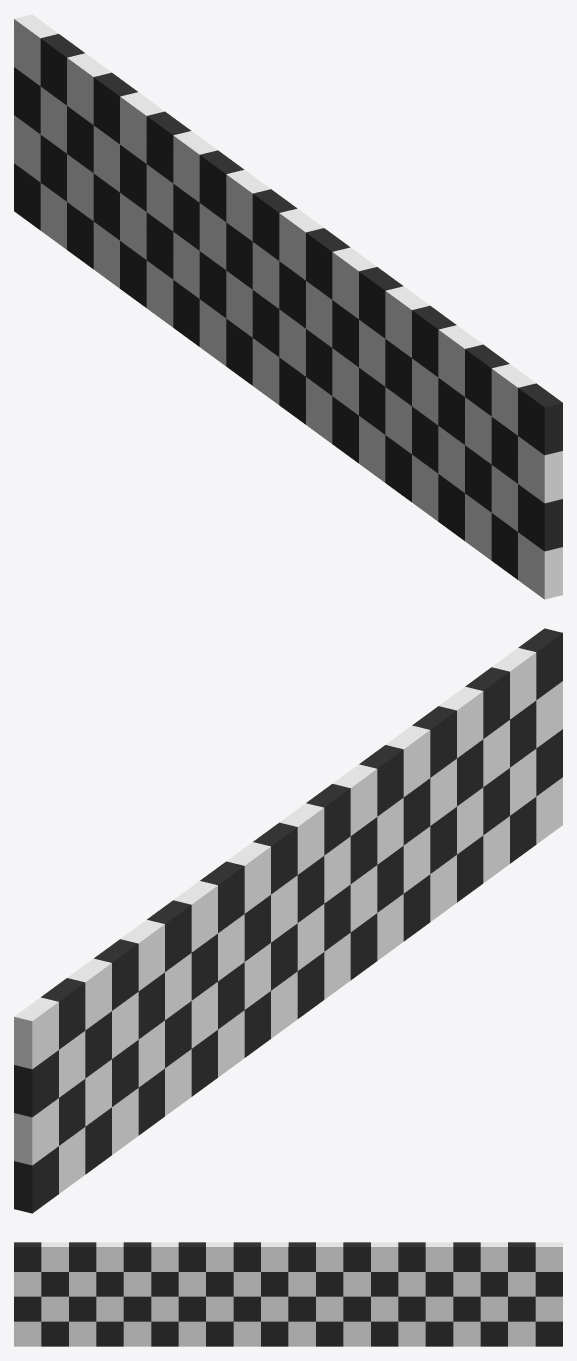
File: startLine.fbx
3 views of the same model, one above another, from view 1: azimuth 30°, elevation 25°; view 2: azimuth 150°, elevation 25°; view 3: azimuth 270°, elevation 25° (orthographic). The views are drawn at different scales.
Visible parts, largest first — view 1: StartLine; view 2: StartLine; view 3: StartLine.
Part boxes in pixels (<box>): StartLine: <box>14,14,562,599</box>; StartLine: <box>14,628,562,1213</box>; StartLine: <box>14,1242,562,1346</box>.
Size of the model in its own units: 0.2 by 2 by 10.
